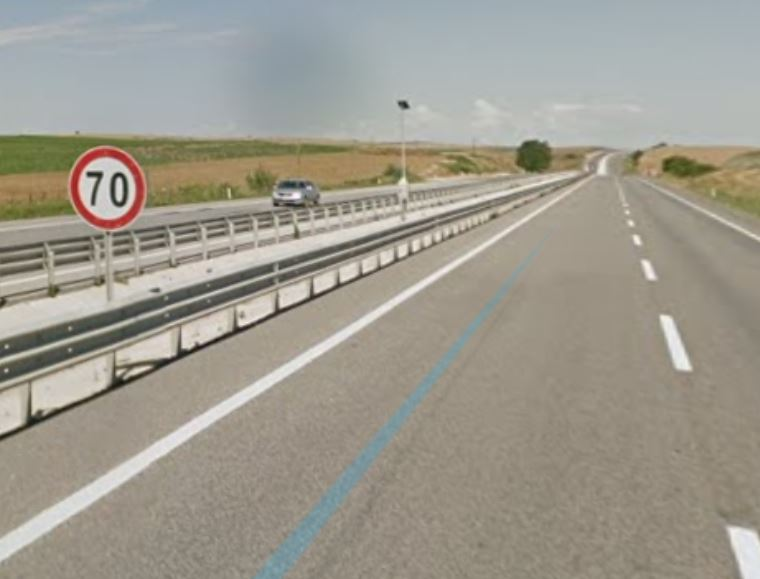70 Km Hiz Siniri: (68, 145, 148, 227)
